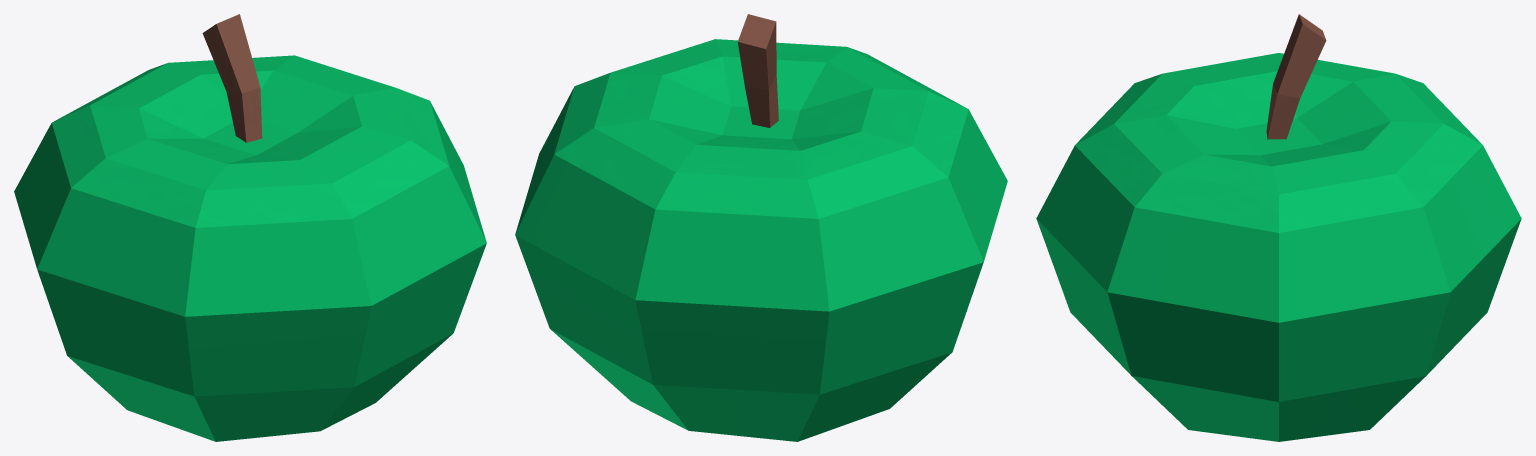
File: apple_001.glb
3 views of the same model, side by side, from view 1: azimuth 30°, elevation 25°; view 2: azimuth 150°, elevation 25°; view 3: azimuth 270°, elevation 25° (orthographic). The views are drawn at different scales.
Parts seen in each view (by area): view 1: apple_001; view 2: apple_001; view 3: apple_001.
Part boxes in pixels (x1,y1,x2,y2): apple_001: (14, 14, 486, 441); apple_001: (515, 14, 1007, 441); apple_001: (1036, 14, 1521, 441).
Bounding box in the file's own units: 0.0858 × 0.0721 × 0.0843.
Materials: 1 (1 with a texture image).
